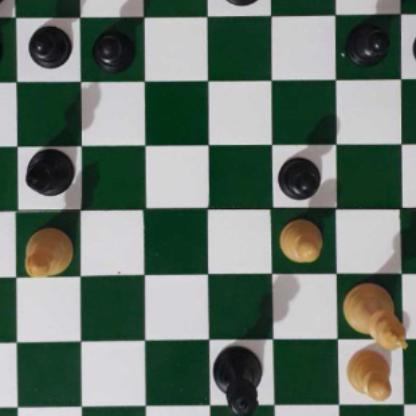black-bishop: (20, 148, 78, 196)
black-king: (213, 0, 270, 7)
black-pawn: (91, 24, 134, 74), (344, 20, 388, 66), (278, 153, 321, 199), (27, 23, 68, 68), (412, 21, 416, 70), (0, 24, 0, 68)
black-queen: (213, 345, 263, 416)
black-rook: (0, 0, 11, 7), (409, 0, 416, 3)
white-bishop: (23, 228, 74, 276)
white-king: (341, 282, 411, 352)
white-pawn: (344, 349, 395, 403), (276, 215, 323, 262), (416, 352, 416, 403)
